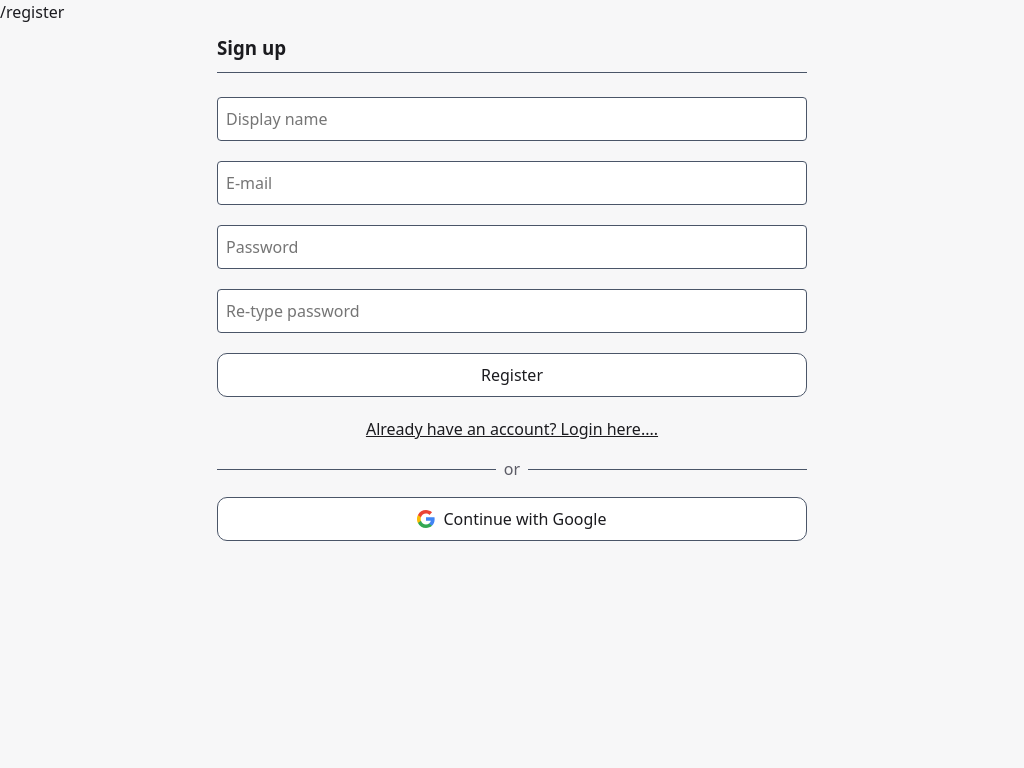
Test: RegisterPage › welcomes the user in a dialog and navigates to the verification notice on success
Type "Ada" into the field labelled "Display name". click: coordinates (512, 119)
box: left=217, top=97, right=807, bottom=141
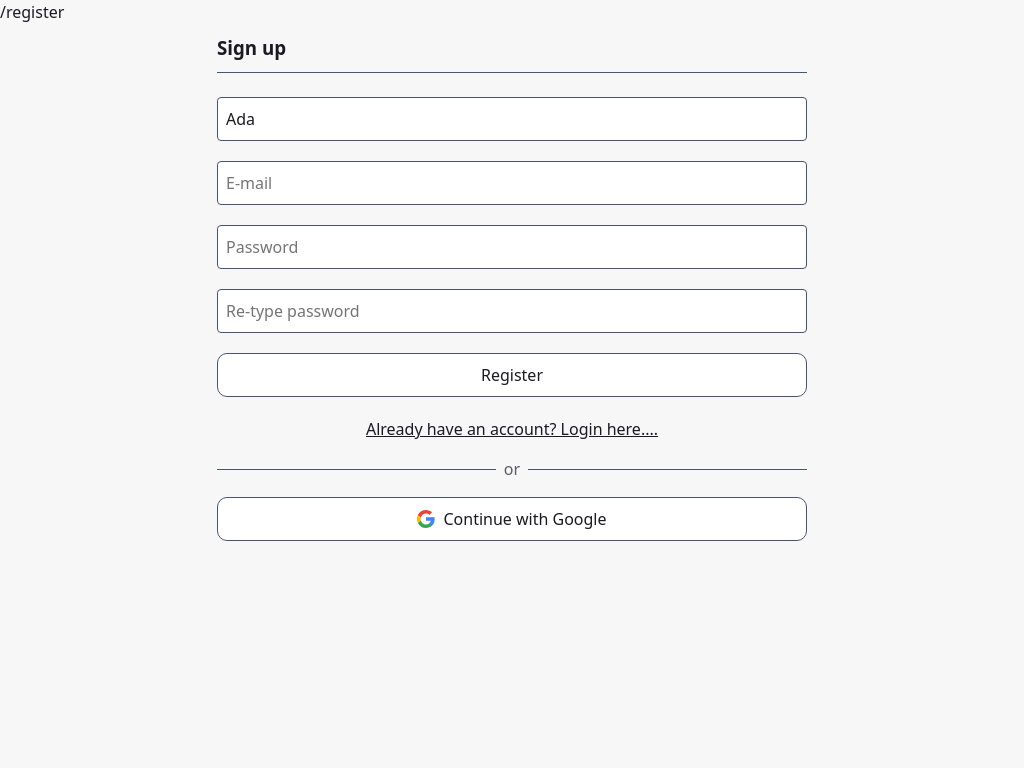
Type "ada@example.com" into the field labelled "E-mail". click: coordinates (512, 183)
box: left=217, top=161, right=807, bottom=205
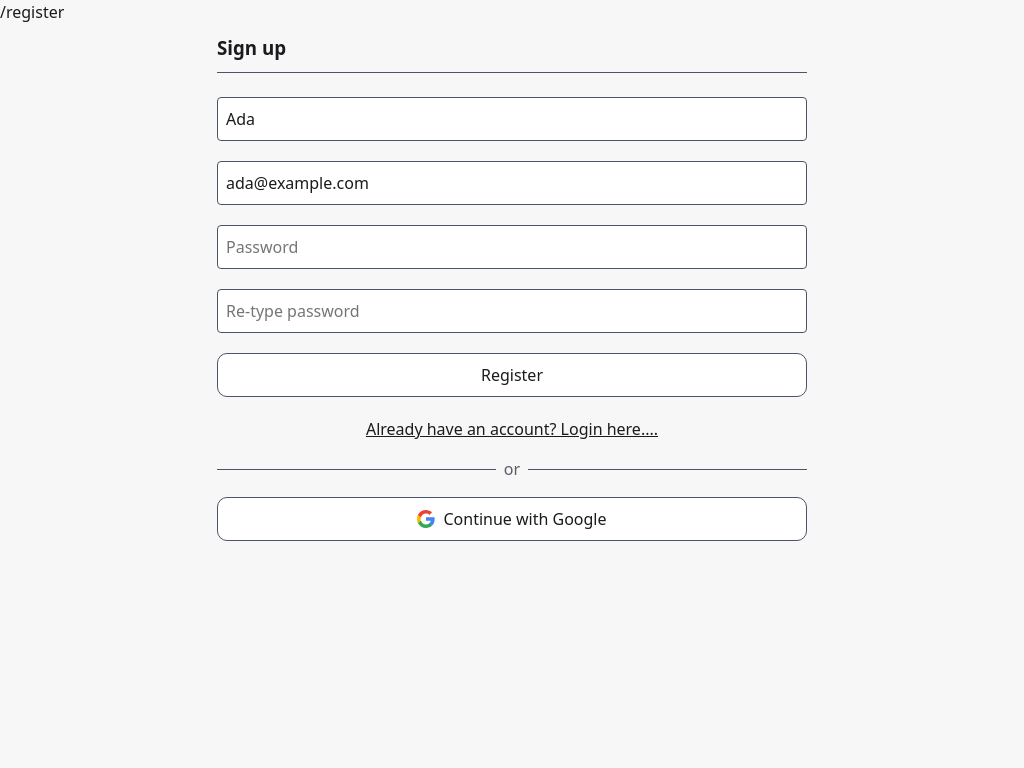
Type "Password1" into the password field labelled "Password". click: coordinates (512, 247)
box: left=217, top=225, right=807, bottom=269
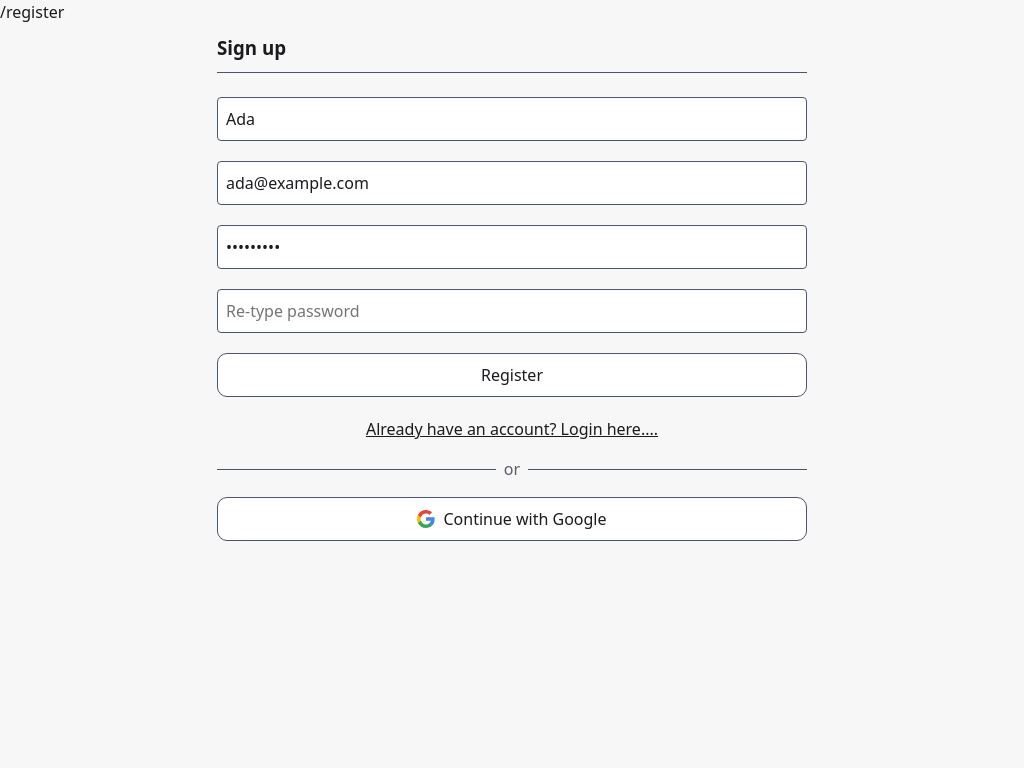
Type "Password1" into the password field labelled "Re-type password". click: coordinates (512, 311)
box: left=217, top=289, right=807, bottom=333
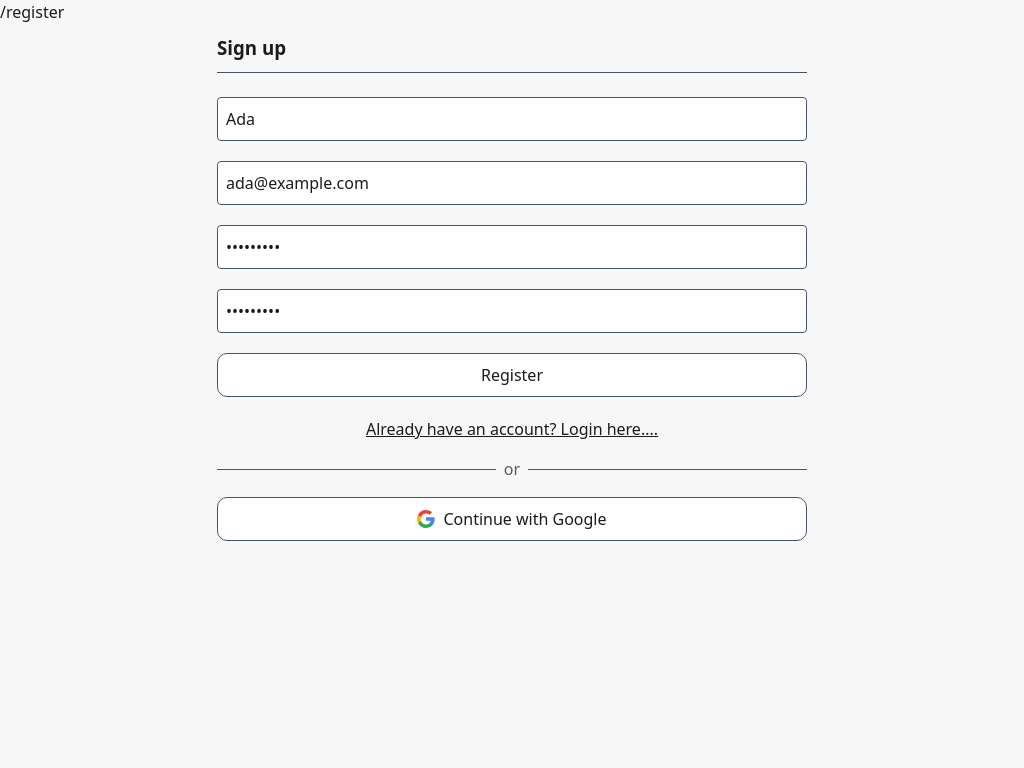
Click the button "Register". click: coordinates (512, 375)
box: left=217, top=353, right=807, bottom=397
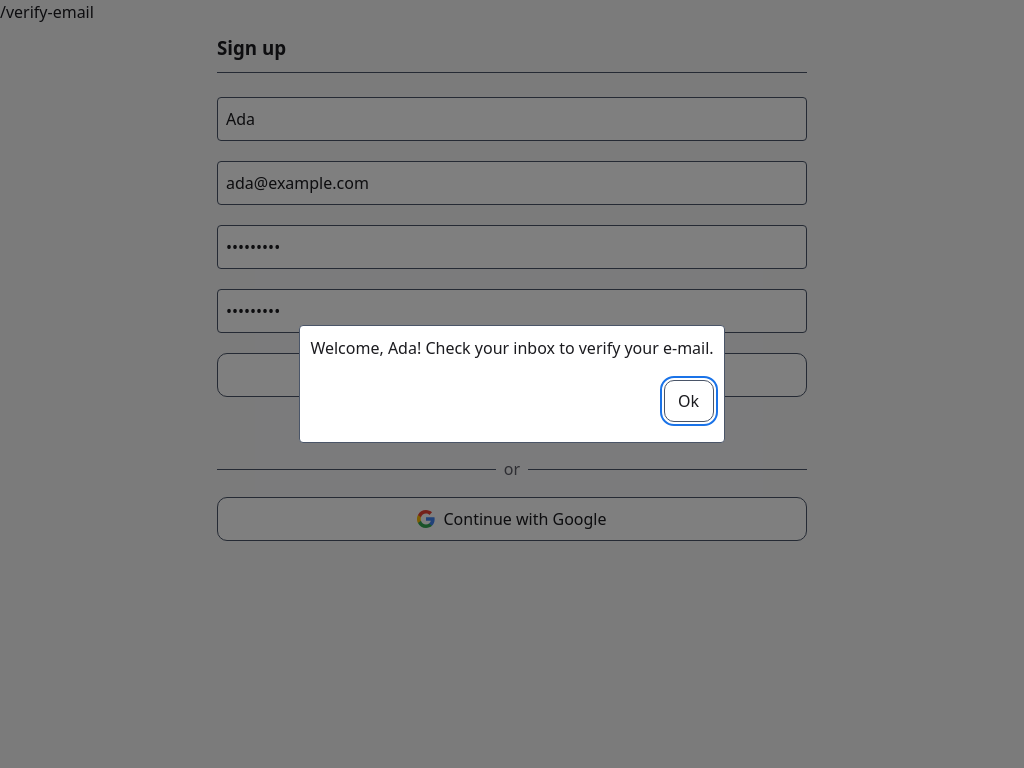
Check: the text "Welcome, Ada! Check your inbox to verify your e-mail." is shown, box left=310, top=336, right=714, bottom=360
Check: the dialog is shown, box left=299, top=325, right=725, bottom=443
Check: the text with test id "location" reads "/verify-email", box left=0, top=1, right=94, bottom=23
